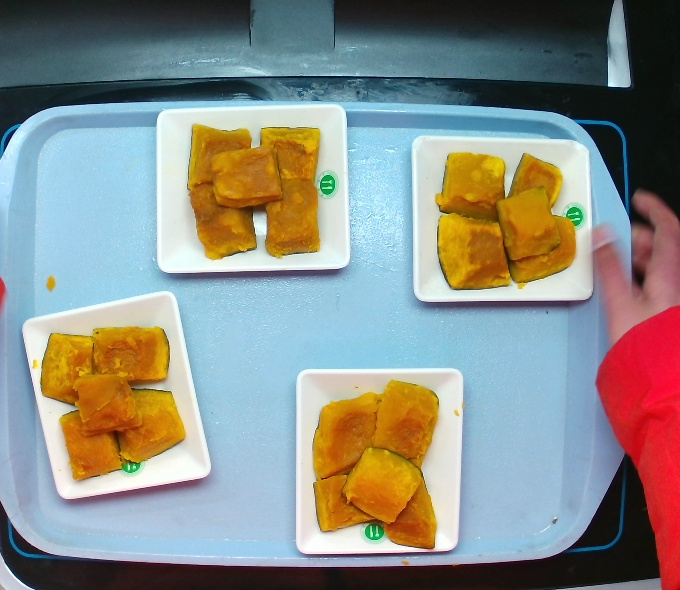wcq-RiBenNanGua: (298, 364, 459, 564), (25, 314, 202, 480), (178, 113, 327, 266), (430, 154, 579, 288)
